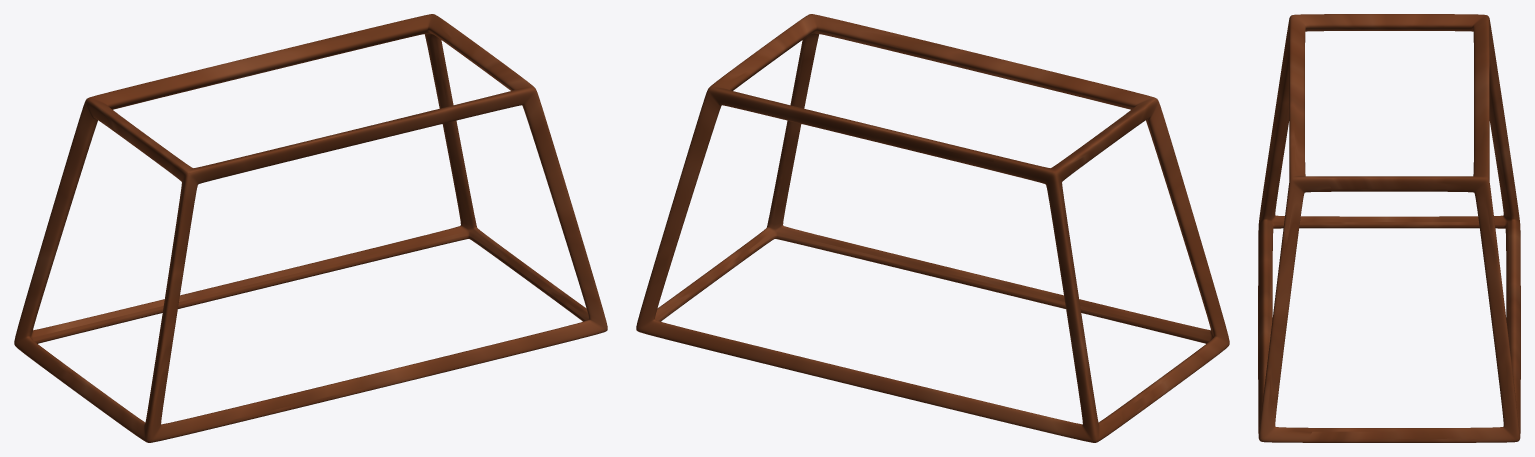
Rendered from trapezium.fbx.
3 views of the same model, side by side, from view 1: azimuth 30°, elevation 25°; view 2: azimuth 150°, elevation 25°; view 3: azimuth 270°, elevation 25° (orthographic). The views are drawn at different scales.
Parts seen in each view (by area): view 1: Trapezium; view 2: Trapezium; view 3: Trapezium.
Boxes of the visible parts, x1,y1,x2,y2 form: Trapezium: (14, 14, 607, 442); Trapezium: (636, 14, 1229, 442); Trapezium: (1258, 14, 1520, 442).
Bounding box in the file's own units: 1.04 × 1.04 × 2.03.
